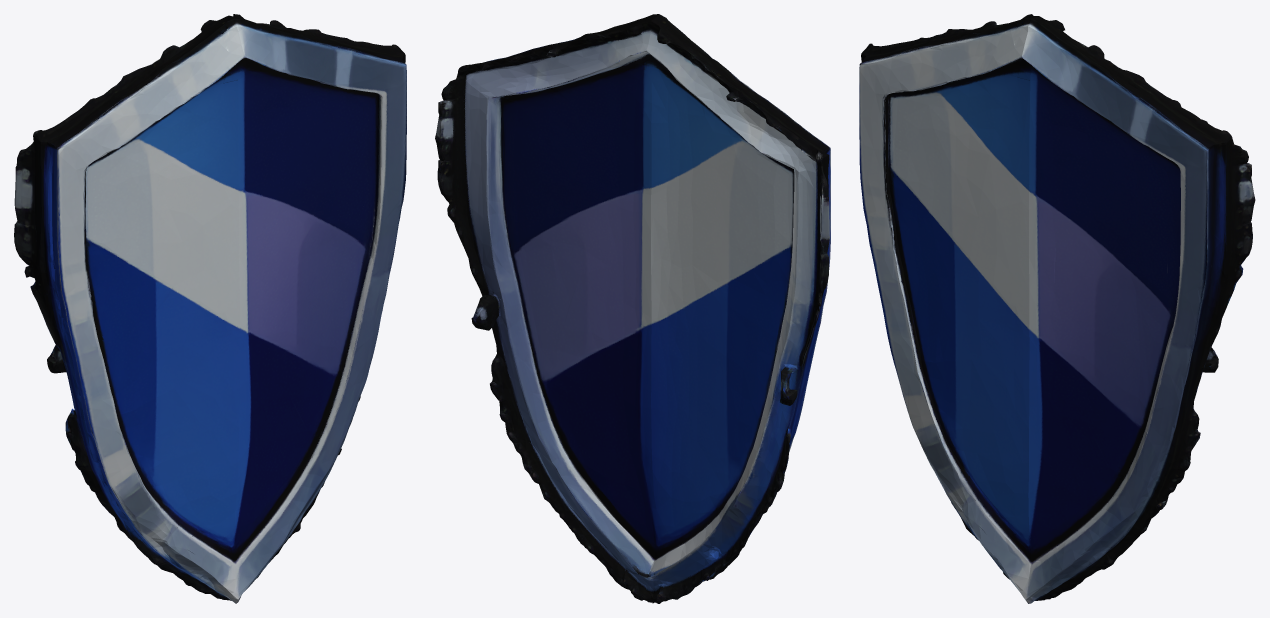
File: shield.glb
3 views of the same model, side by side, from view 1: azimuth 30°, elevation 25°; view 2: azimuth 150°, elevation 25°; view 3: azimuth 330°, elevation 25° (orthographic).
Visible parts, largest first — view 1: world; view 2: world; view 3: world.
Boxes of the visible parts, x1,y1,x2,y2 form: world: (14,14,406,603); world: (435,14,830,603); world: (859,14,1255,603).
Size of the model in its own units: 0.7037 by 1 by 0.1243.
Materials: 1 (1 with a texture image).
